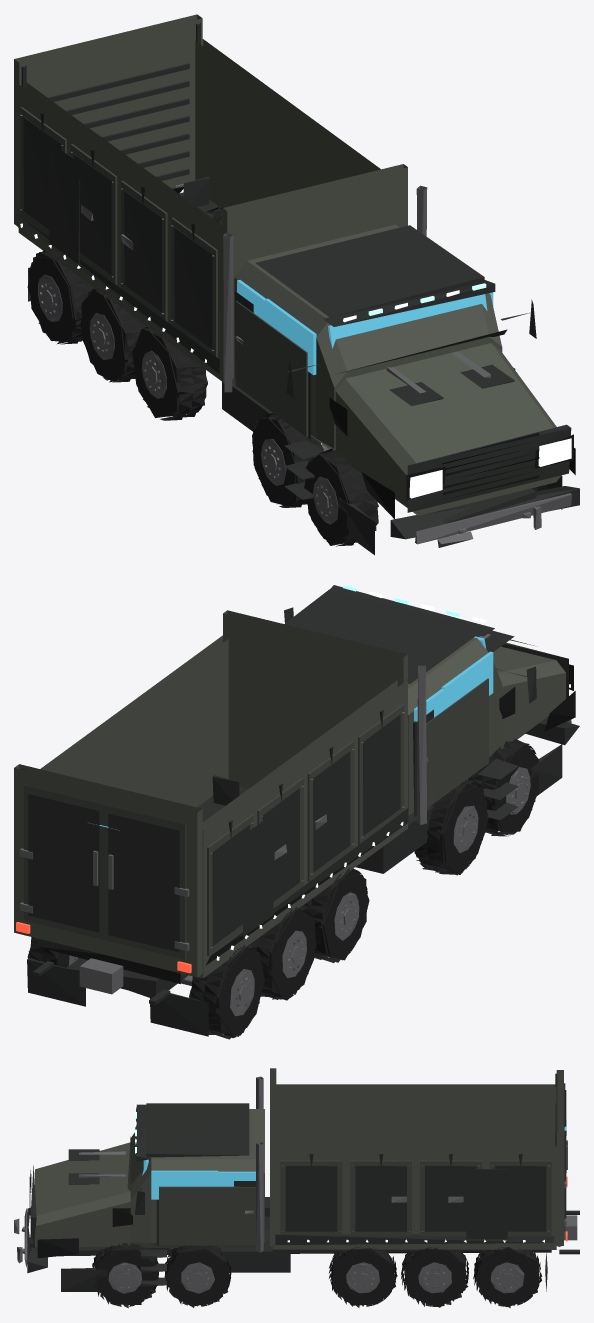
File: apc.glb
The picture shows the model from 3 angles, top to bottom: view 1: azimuth 30°, elevation 25°; view 2: azimuth 150°, elevation 25°; view 3: azimuth 270°, elevation 25°; orthographic projection. The views are drawn at different scales.
Visible parts, largest first — view 1: Body; view 2: Body; view 3: Body.
Boxes of the visible parts, <box> form: Body: <box>14,14,579,555</box>; Body: <box>14,584,579,1039</box>; Body: <box>14,1068,579,1308</box>.
Size of the model in its own units: 3.82 by 3.8 by 10.96.
